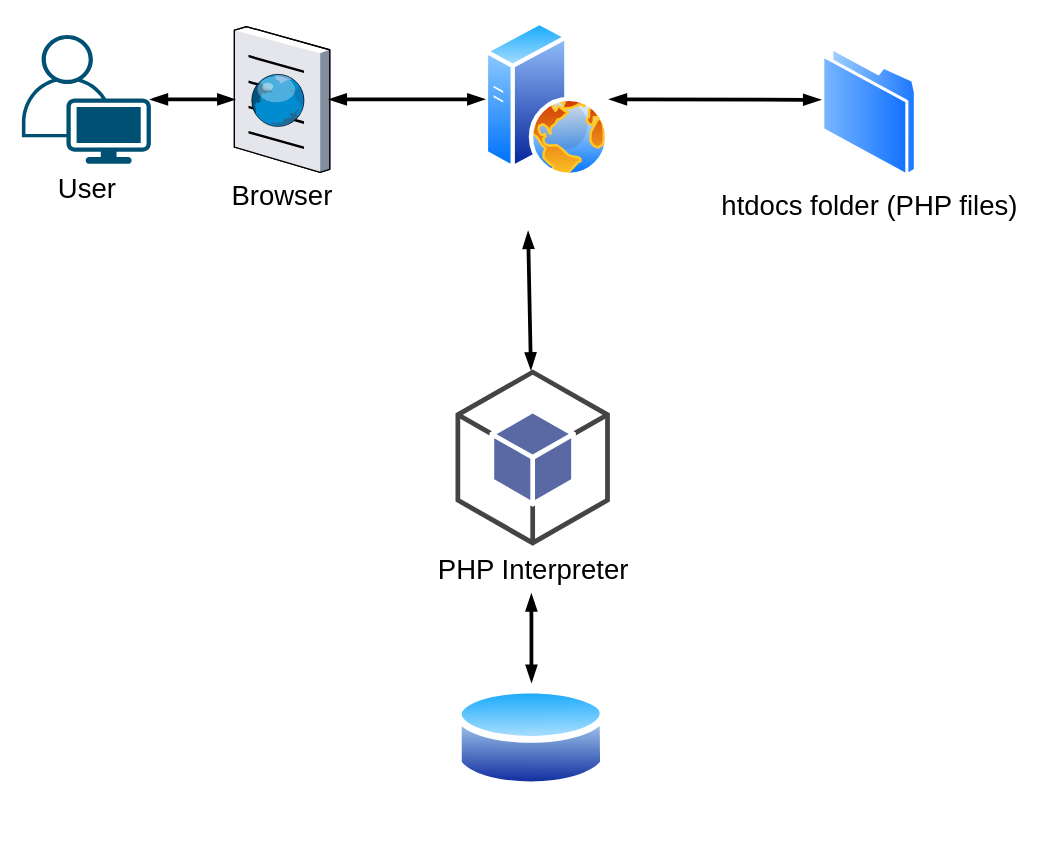
This 1039x861 diagram has some shape labels left out. The shapes that lost their labels are listed below. From the top down, each one's centre as x and y in pixels, then its label:
At (x=546, y=98): "Apache Web Server".
At (x=531, y=737): "Database".
